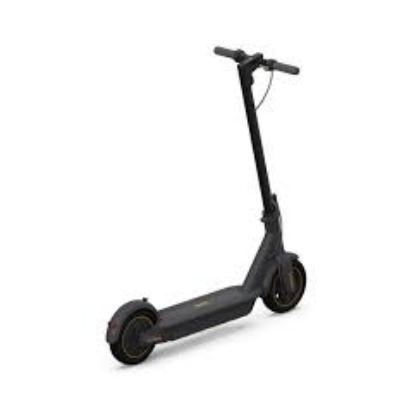bike: (105, 50, 307, 367)
